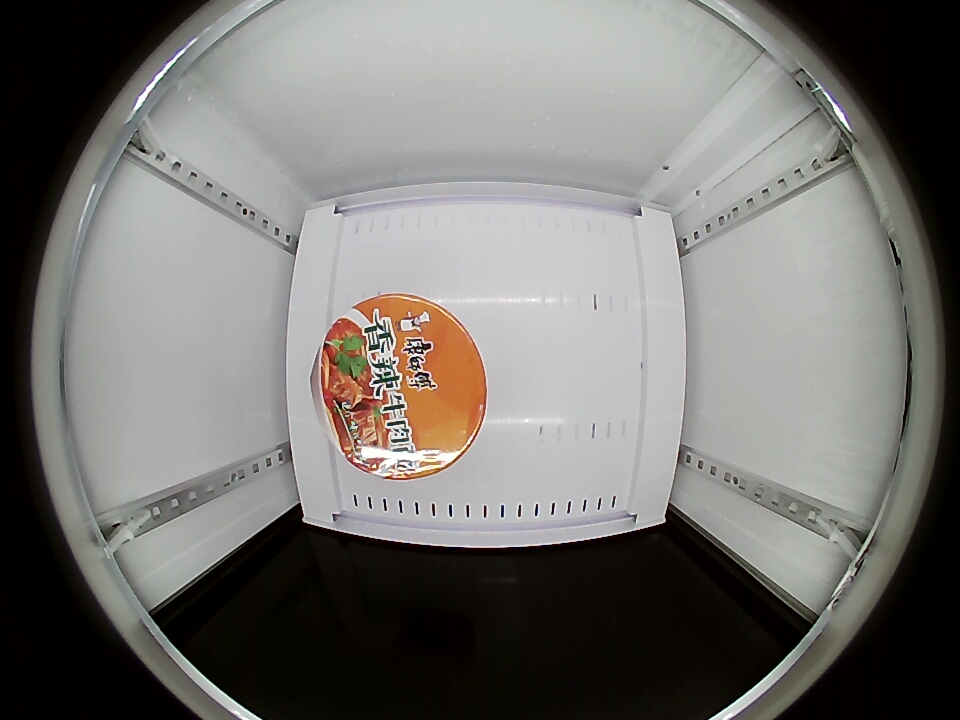xianglaniurou: (312, 294, 487, 481)
